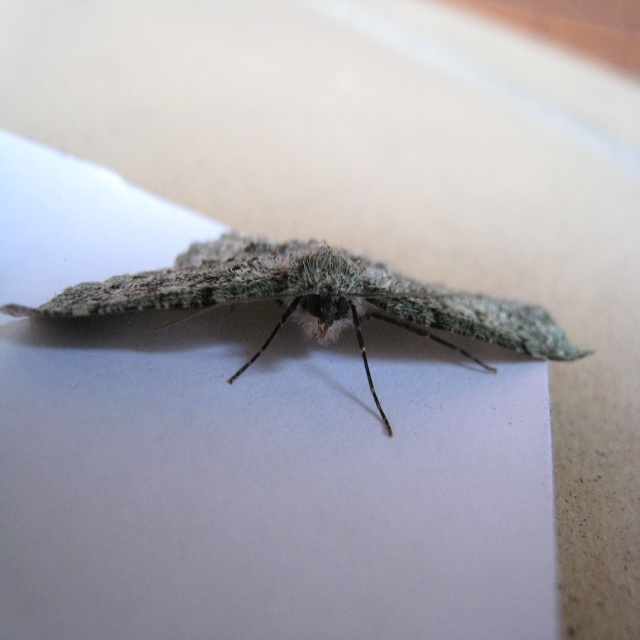Moths and butterflies: (0, 236, 603, 437)
